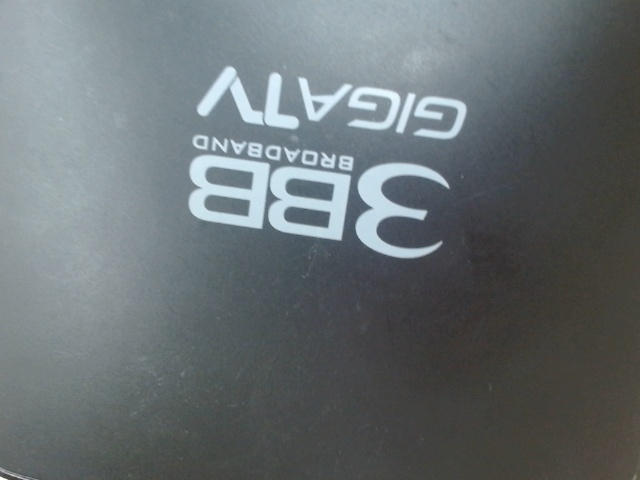AG_3BB: (178, 54, 476, 266)
